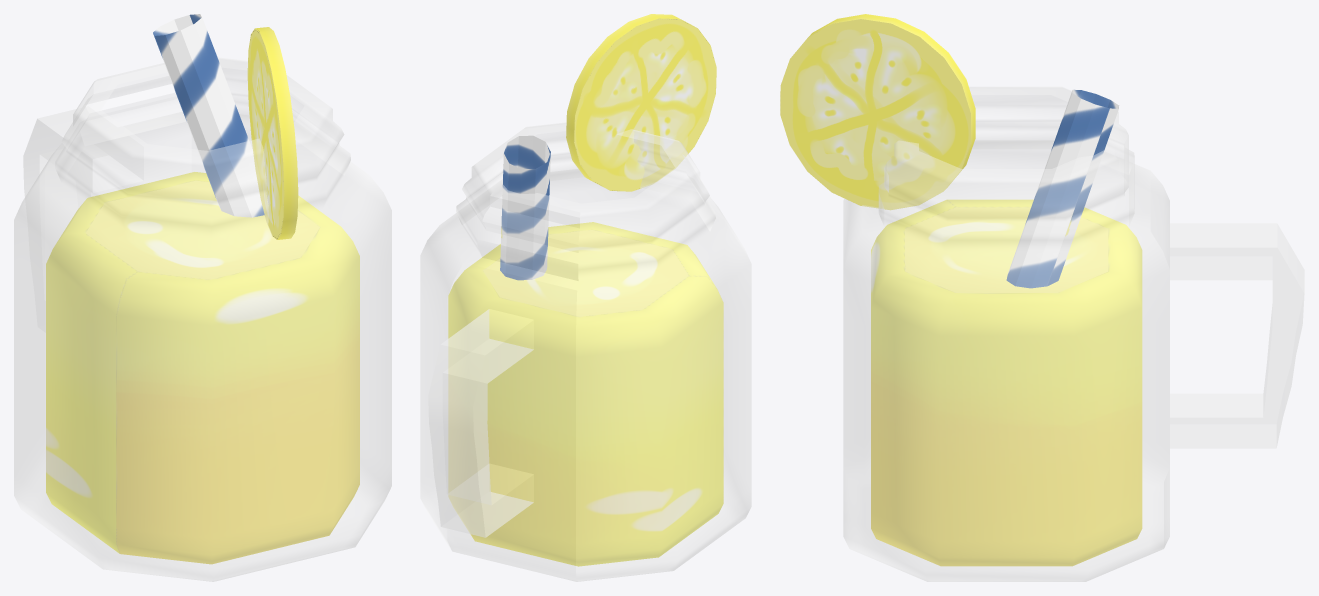
File: lemonade.glb
The picture shows the model from 3 angles, left to right: view 1: azimuth 30°, elevation 25°; view 2: azimuth 150°, elevation 25°; view 3: azimuth 270°, elevation 25°; orthographic projection. The views are drawn at different scales.
Parts seen in each view (by area): view 1: pCube1, pCube2, pCylinder2, pCylinder1; view 2: pCube1, pCube2, pCylinder1, pCylinder2; view 3: pCube1, pCube2, pCylinder1, pCylinder2.
Boxes of the visible parts, left/top/right/bottom form: pCube1: left=14, top=57, right=391, bottom=581; pCube2: left=46, top=172, right=359, bottom=564; pCylinder2: left=153, top=14, right=264, bottom=217; pCylinder1: left=247, top=27, right=298, bottom=239; pCube1: left=420, top=122, right=751, bottom=581; pCube2: left=448, top=222, right=723, bottom=566; pCylinder1: left=566, top=14, right=716, bottom=191; pCylinder2: left=500, top=135, right=550, bottom=280; pCube1: left=843, top=86, right=1304, bottom=581; pCube2: left=871, top=199, right=1142, bottom=566; pCylinder1: left=780, top=14, right=975, bottom=210; pCylinder2: left=1006, top=89, right=1119, bottom=288.
Bounding box in the file's own units: 2.56 × 4.35 × 4.11.
2 materials, 1 textured.
